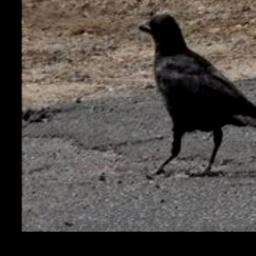Crow: (139, 13, 256, 179)
